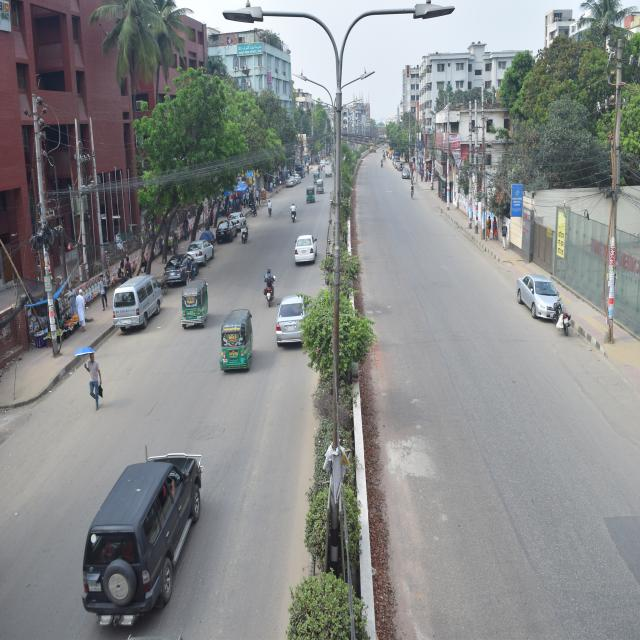car: (270, 295, 314, 359), (513, 268, 564, 319), (159, 249, 200, 285), (292, 228, 320, 272), (189, 240, 214, 265), (215, 220, 238, 247), (231, 202, 250, 231), (283, 173, 301, 186), (399, 164, 412, 180)
microbus: (76, 433, 214, 640), (110, 266, 165, 338)
motorbike: (553, 291, 575, 341), (262, 265, 284, 308), (237, 212, 253, 248), (291, 201, 302, 226)
